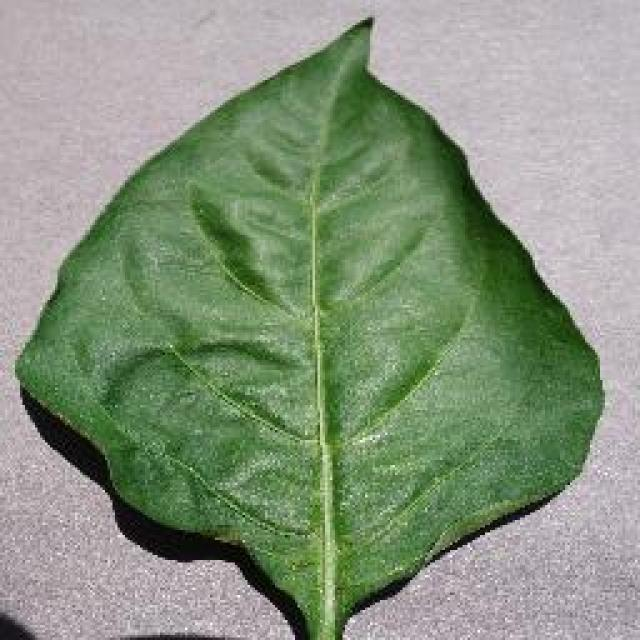Chilli_Healthy: (13, 15, 605, 637)
